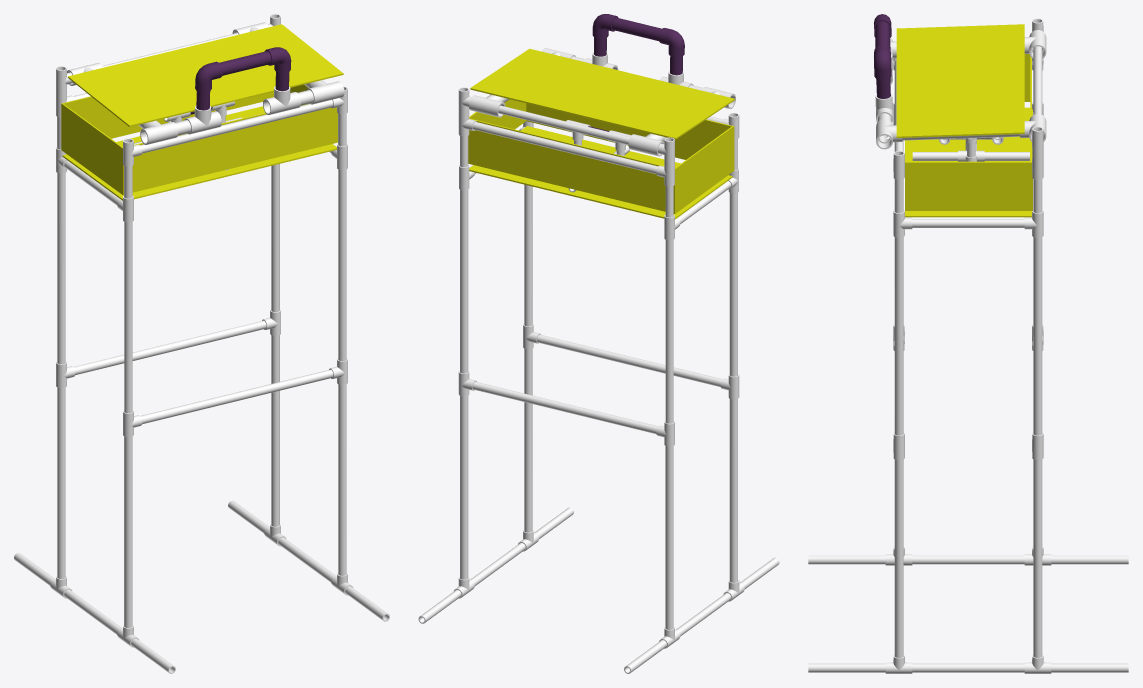
File: Expose_to_Sunlight_Closed.obj
3 renders of one model, left to right at view 1: azimuth 30°, elevation 25°; view 2: azimuth 150°, elevation 25°; view 3: azimuth 270°, elevation 25°, orthographic. The views are drawn at different scales.
Parts seen in each view (by area): view 1: Solid1:65, Solid1:40, Solid1:42, Solid1:39, Solid1:22, Solid1:41, Solid1:23, Solid1:16, Solid1:17, Solid1:12, Solid1:15, Solid1:10 (+12 smaller); view 2: Solid1:65, Solid1:41, Solid1:42, Solid1:39, Solid1:40, Solid1:23, Solid1:34, Solid1:13, Solid1:14, Solid1:16, Solid1:10, Solid1:11 (+12 smaller); view 3: Solid1:65, Solid1:43, Solid1:39, Solid1:12, Solid1:15, Solid1:11, Solid1:14, Solid1:8, Solid1:9, Solid1:29, Solid1:1, Solid1:5 (+5 smaller).
Part boxes in pixels (x1,y1,x2,y2): Solid1:65: [68, 24, 343, 126]; Solid1:40: [132, 103, 337, 192]; Solid1:42: [61, 103, 123, 195]; Solid1:39: [62, 106, 336, 200]; Solid1:22: [140, 369, 333, 424]; Solid1:41: [63, 92, 273, 138]; Solid1:23: [73, 320, 266, 374]; Solid1:16: [57, 173, 65, 364]; Solid1:17: [124, 222, 132, 413]; Solid1:12: [338, 384, 346, 575]; Solid1:15: [338, 169, 346, 361]; Solid1:10: [124, 436, 132, 627]; Solid1:65: [470, 48, 734, 139]; Solid1:41: [468, 118, 665, 211]; Solid1:42: [673, 125, 734, 213]; Solid1:39: [469, 126, 732, 219]; Solid1:40: [526, 103, 731, 159]; Solid1:23: [472, 381, 657, 433]; Solid1:34: [472, 122, 657, 173]; Solid1:13: [665, 446, 673, 629]; Solid1:14: [460, 189, 468, 373]; Solid1:16: [665, 240, 673, 423]; Solid1:10: [729, 399, 737, 582]; Solid1:11: [460, 396, 468, 579]; Solid1:65: [896, 24, 1024, 138]; Solid1:43: [905, 161, 1032, 210]; Solid1:39: [905, 107, 1032, 217]; Solid1:12: [894, 459, 903, 657]; Solid1:15: [894, 237, 903, 435]; Solid1:11: [1033, 459, 1042, 657]; Solid1:14: [1033, 237, 1042, 435]; Solid1:8: [912, 555, 1024, 564]; Solid1:9: [912, 663, 1024, 672]; Solid1:29: [912, 219, 1024, 227]; Solid1:1: [808, 555, 885, 564]; Solid1:5: [1051, 555, 1128, 564].
Size of the model in its own units: 25.08 by 60.7 by 30.
